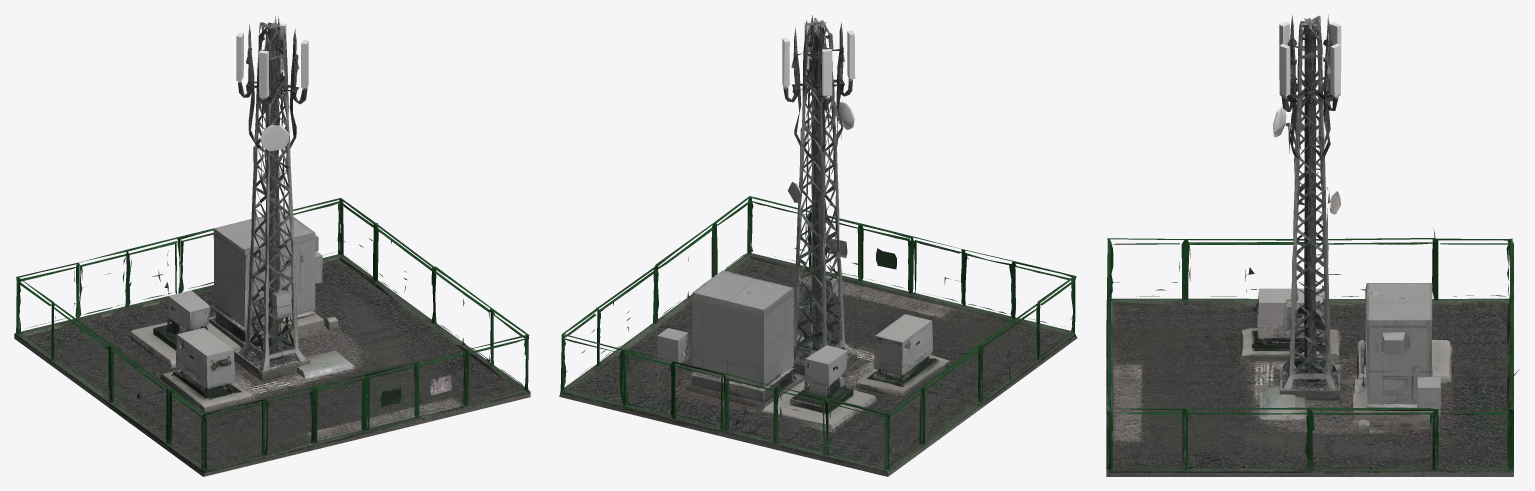
Rendered from cell_tower.glb.
3 views of the same model, side by side, from view 1: azimuth 30°, elevation 25°; view 2: azimuth 150°, elevation 25°; view 3: azimuth 270°, elevation 25° (orthographic). The views are drawn at different scales.
Parts seen in each view (by area): view 1: cell_tower; view 2: cell_tower; view 3: cell_tower.
Boxes of the visible parts, box(x1,y1,x2,y2) form: cell_tower: box(14, 16, 530, 476); cell_tower: box(559, 15, 1077, 476); cell_tower: box(1106, 15, 1519, 476).
Size of the model in its own units: 1.78 by 1.78 by 1.78.
Materials: 1 (1 with a texture image).
